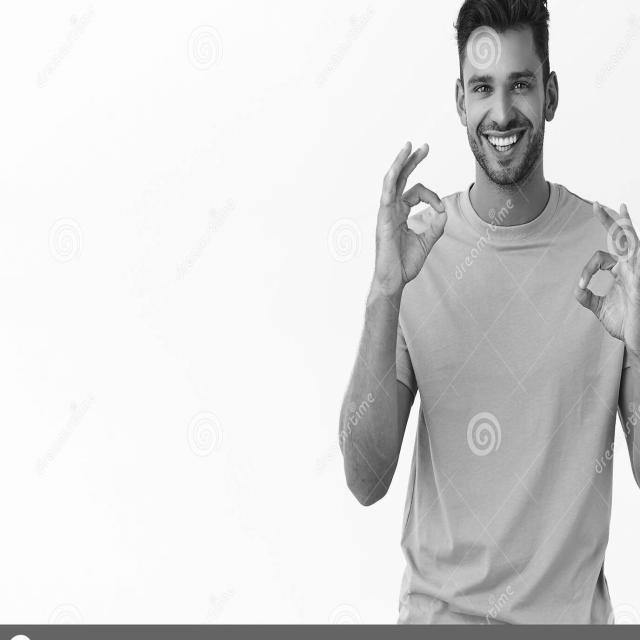perfect: (367, 133, 452, 302)
